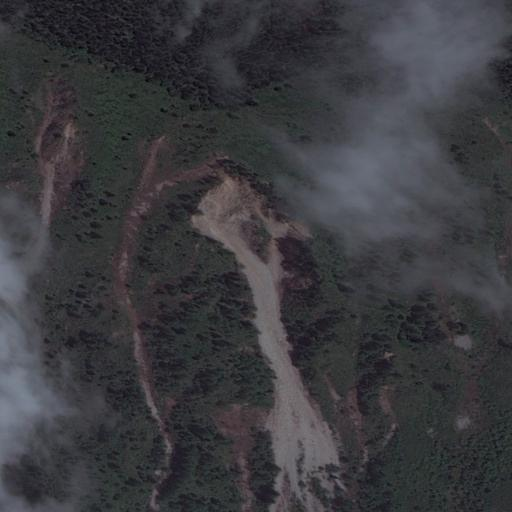landslide: (187, 174, 346, 512)
